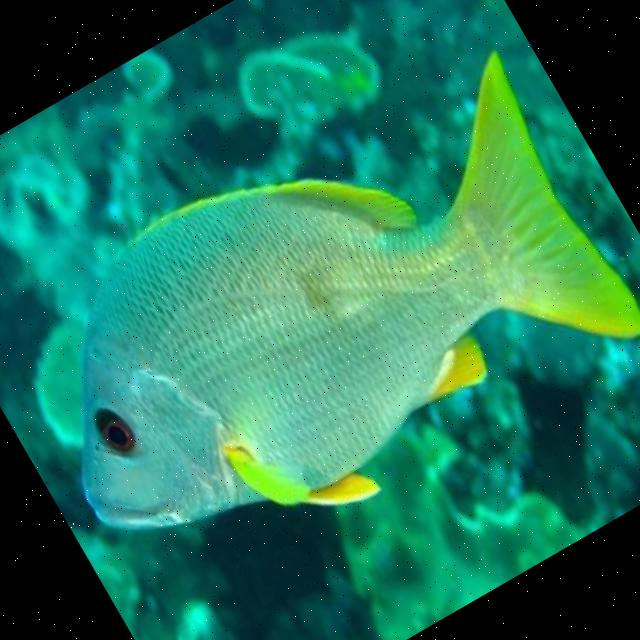ikan: (0, 24, 640, 624)
